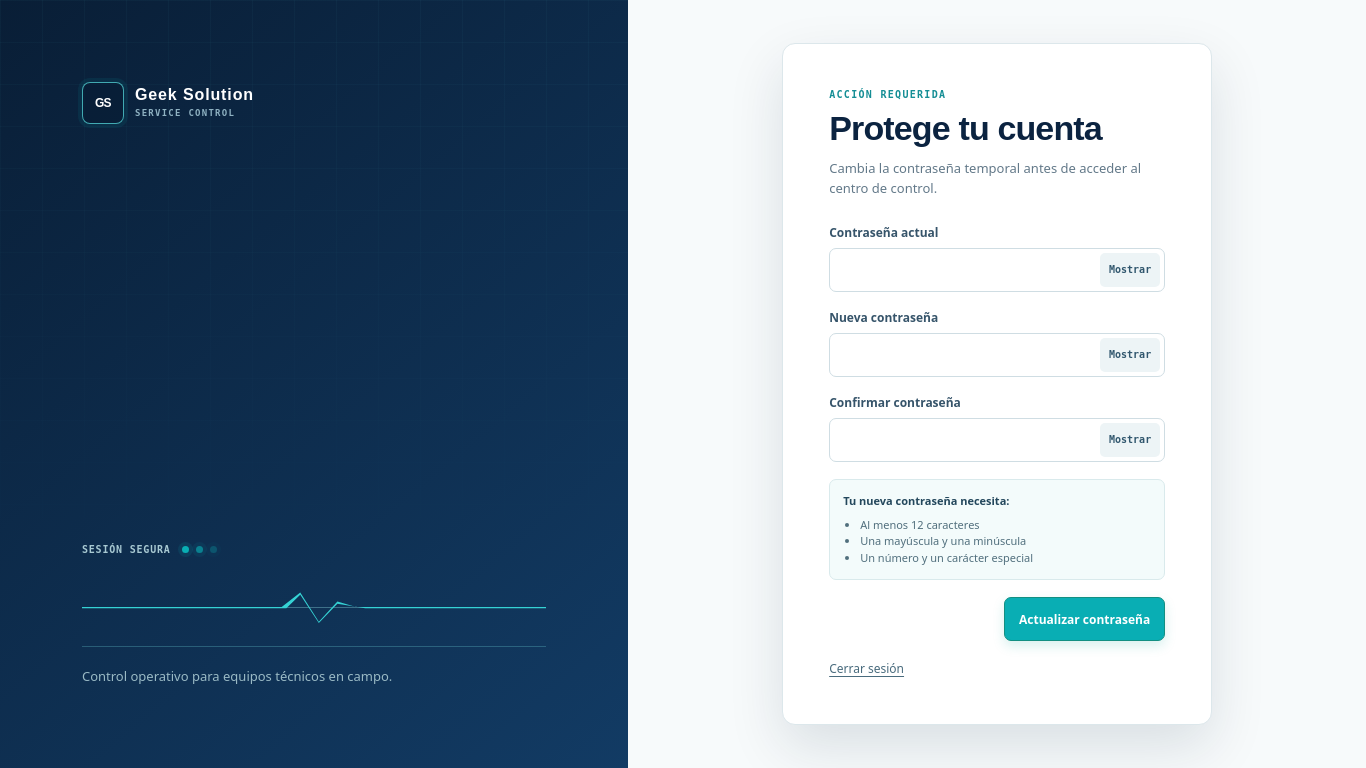
Test: páginas de autenticación › valida confirmación antes de cambiar contraseña
This screenshot has width=1366, height=768.
Type "Actual123!xxx" into the password field labelled "Contraseña actual" at (997, 270), box [829, 248, 1165, 292]
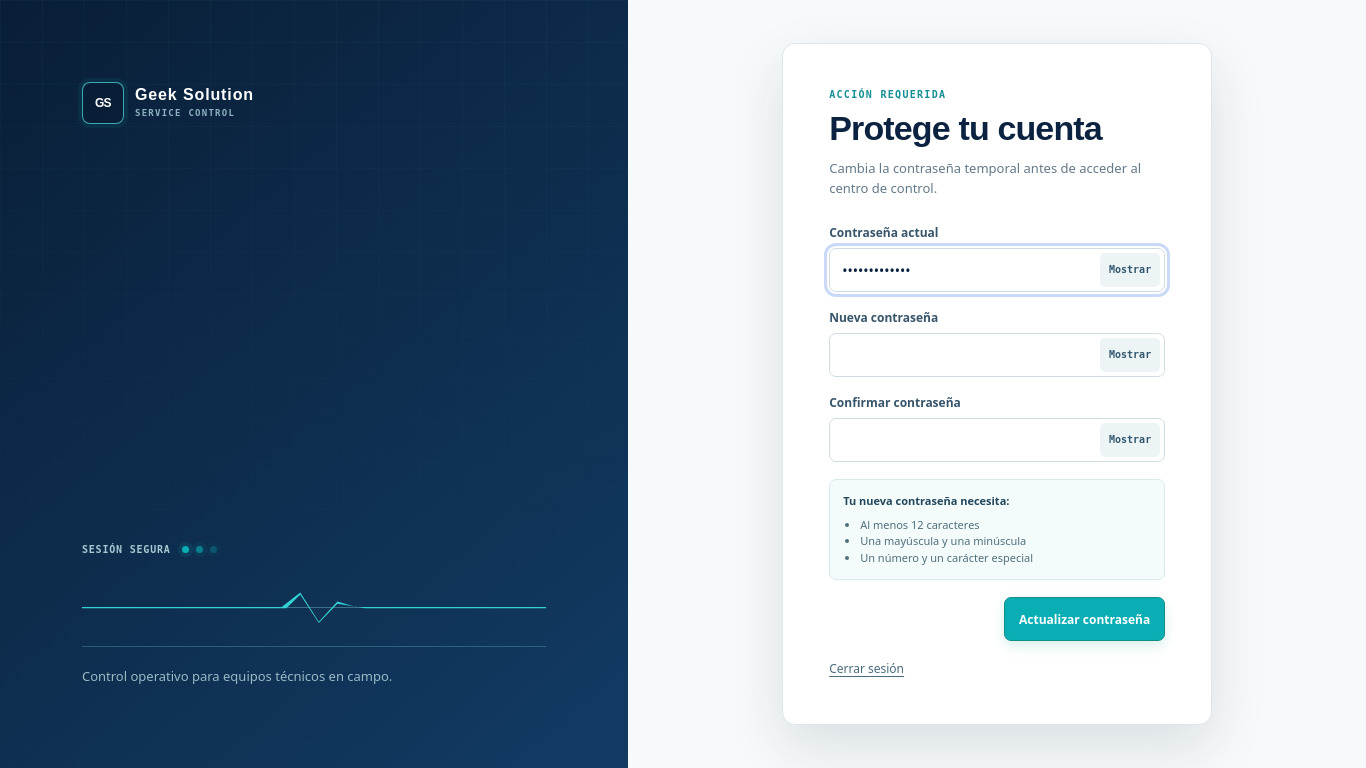
Type "Nueva123!xxxx" into the password field labelled "Nueva contraseña" at (997, 355), box [829, 333, 1165, 377]
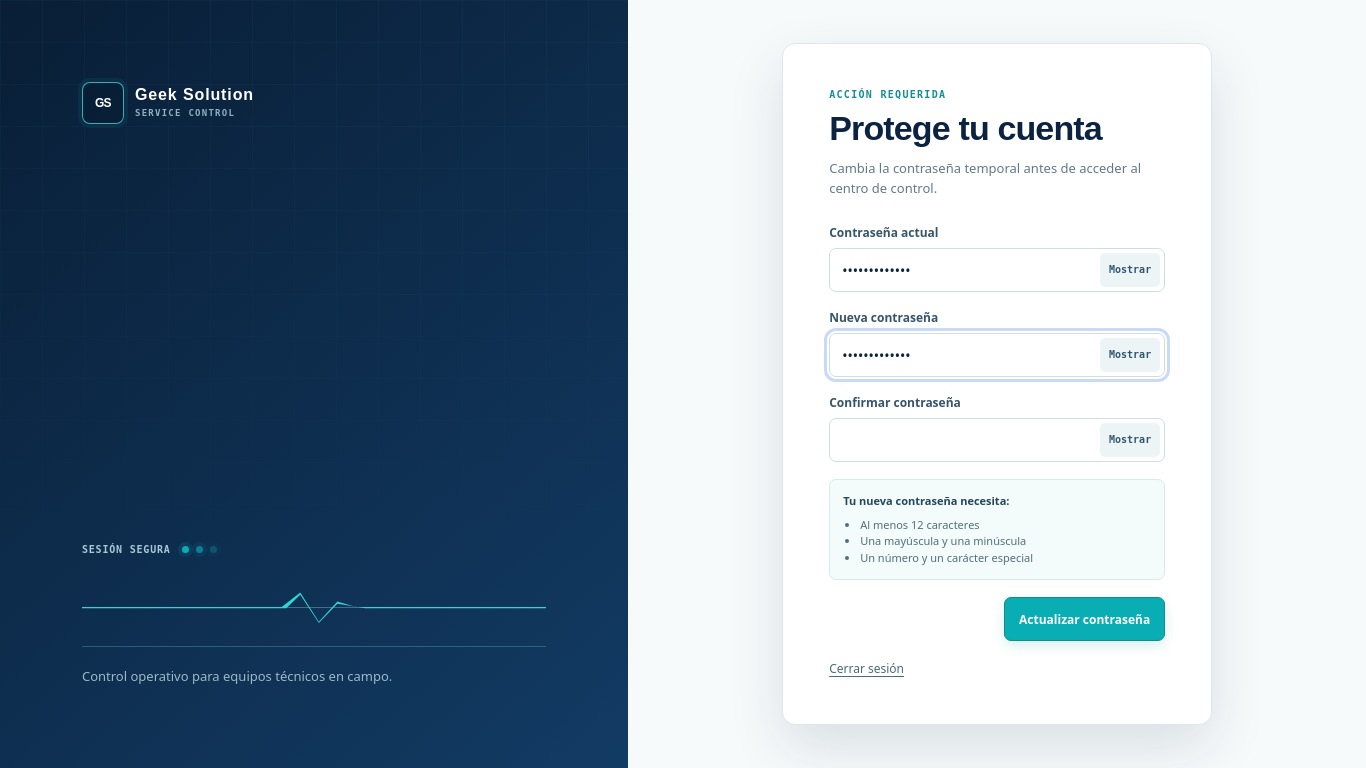
Type "Distinta123!" into the password field labelled "Confirmar contraseña" at (997, 440), box [829, 418, 1165, 462]
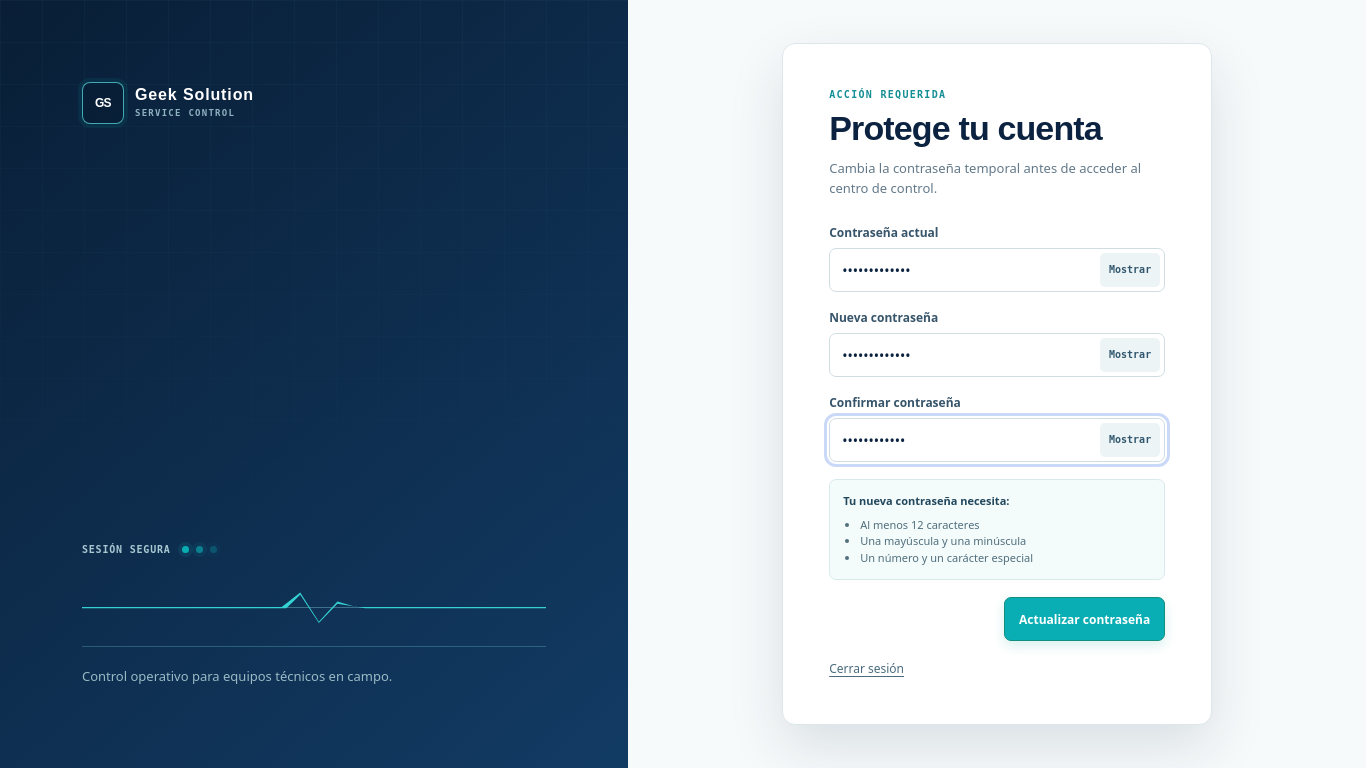
Click the button "Actualizar contraseña" at (1085, 619), box [1004, 597, 1165, 641]
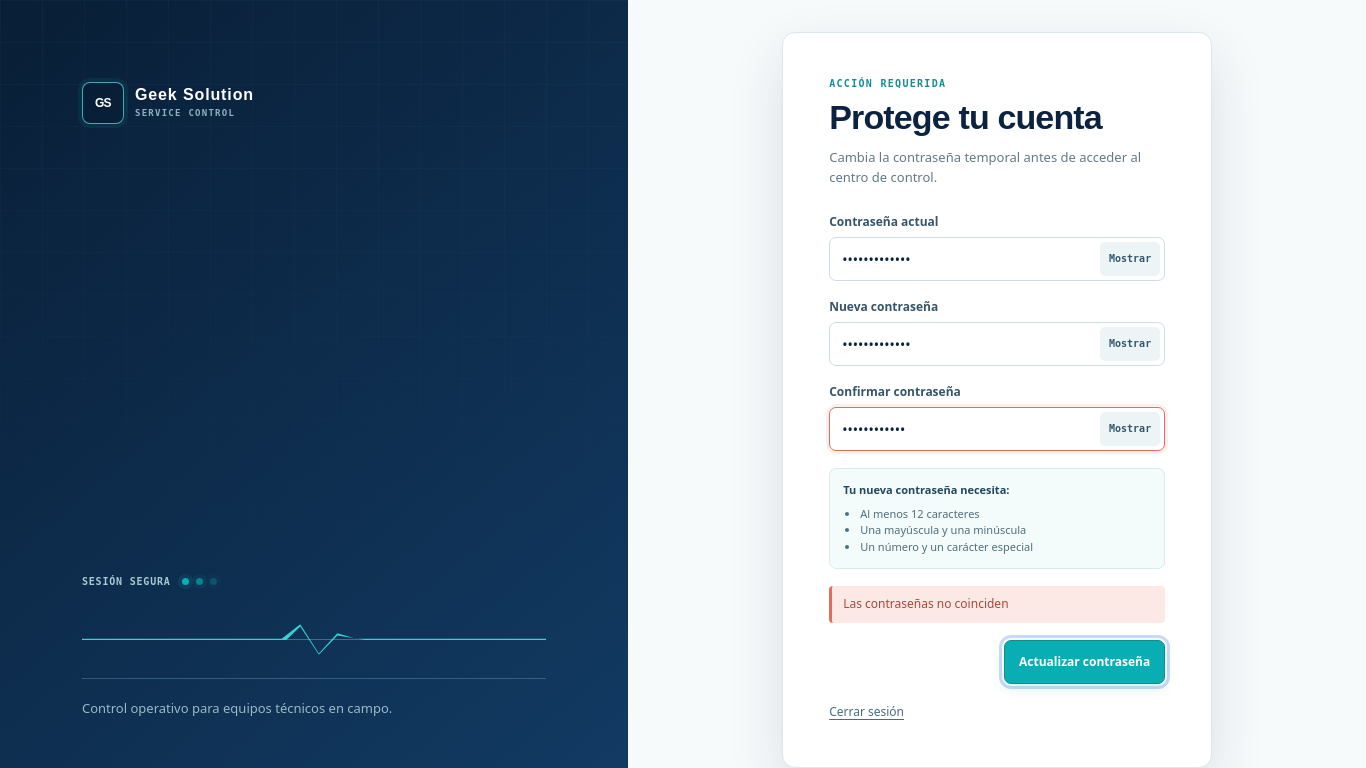
Now the message reads "Las contraseñas no coinciden", box [843, 595, 1009, 612]
